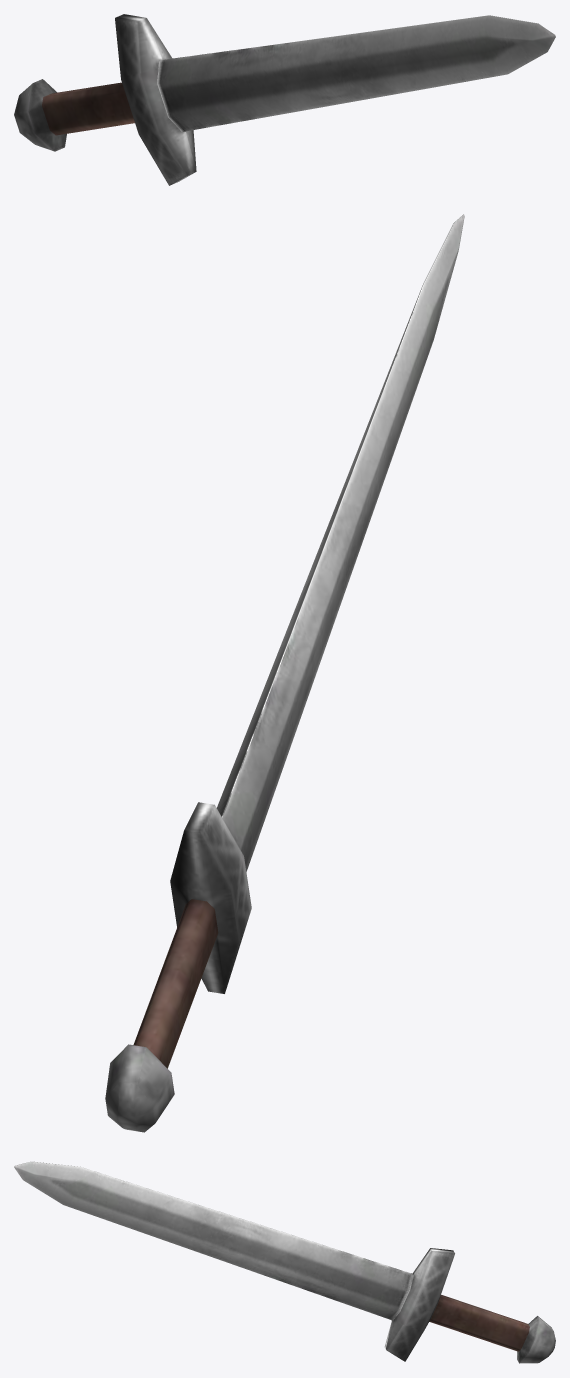
File: weapon-base.glb
The picture shows the model from 3 angles, top to bottom: view 1: azimuth 30°, elevation 25°; view 2: azimuth 150°, elevation 25°; view 3: azimuth 270°, elevation 25°; orthographic projection. The views are drawn at different scales.
Bounding box in the file's own units: 0.1913 × 0.4039 × 0.8075.
Materials: 1 (1 with a texture image).
